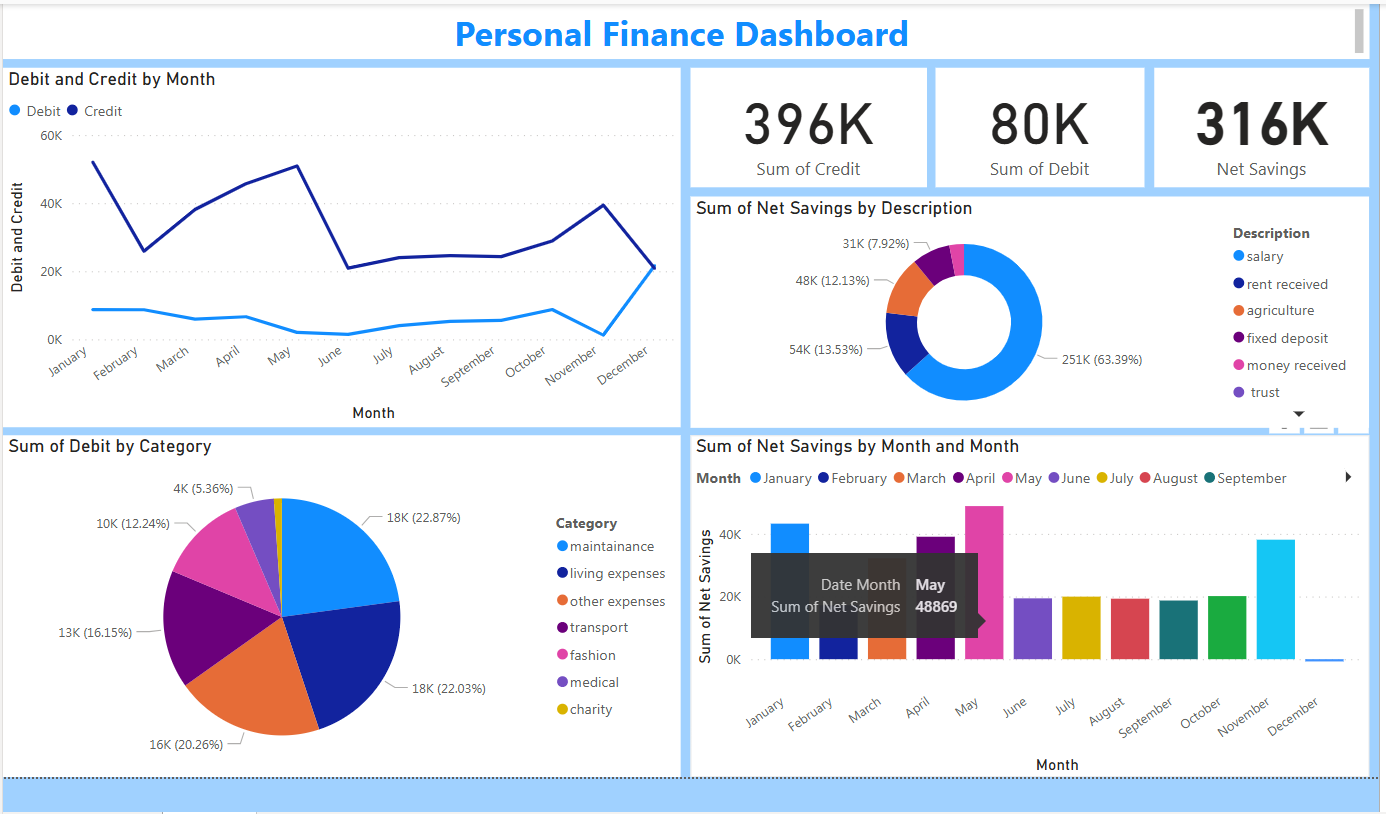

Layout of this report page (visuals, bound fields, positions):
{"tool":"powerbi","page":{"name":"Page 1","canvas":[1280,720],"ordinal":0},"visuals":[{"type":"card","fields":{"Values":["Sum(Sheet1.Amount)"]},"box":[1071,59.6,199.9,111.1],"z":0},{"type":"lineChart","fields":{"Category":["Sheet1.Date.Variation.Date Hierarchy.Month"],"Y":["Sum(Sheet1.Debit)","Sum(Sheet1.Credit)"]},"box":[0,59.6,630.2,334.4],"z":1000},{"type":"pieChart","title":"Sum of Debit by Category","fields":{"Category":["Sheet1.Category"],"Y":["Sum(Sheet1.Debit)"]},"box":[0,401,630.2,319.2],"z":2000},{"type":"columnChart","fields":{"Y":["Sum(Sheet1.Amount)"],"Series":["Sheet1.Date.Variation.Date Hierarchy.Month"],"Category":["Sheet1.Date.Variation.Date Hierarchy.Month"]},"box":[639.5,401,631.3,319.2],"z":3000},{"type":"card","fields":{"Values":["Sum(Sheet1.Credit)"]},"box":[639.5,59.6,219.8,111.1],"z":4000},{"type":"card","fields":{"Values":["Sum(Sheet1.Debit)"]},"box":[867.5,59.6,194.1,111.1],"z":5000},{"type":"donutChart","title":"Sum of Net Savings by Description","fields":{"Category":["Sheet1.Description"],"Y":["Sum(Sheet1.Amount)"]},"box":[639.5,178.9,631.3,215.1],"z":6000},{"type":"textbox","box":[0,0,1270.9,51.4],"z":7000}]}

Visuals, with their boxes in screenshot pixels (x1, y1, x2, y2):
card - Sum(Sheet1.Amount): bbox=[1151, 67, 1364, 186]
lineChart - Sheet1.Date.Variation.Date Hierarchy.Month x Sum(Sheet1.Debit): bbox=[7, 67, 680, 424]
"Sum of Debit by Category" pieChart: bbox=[7, 432, 680, 773]
columnChart - Sum(Sheet1.Amount) x Sheet1.Date.Variation.Date Hierarchy.Month: bbox=[690, 432, 1364, 773]
card - Sum(Sheet1.Credit): bbox=[690, 67, 925, 186]
card - Sum(Sheet1.Debit): bbox=[934, 67, 1141, 186]
"Sum of Net Savings by Description" donutChart: bbox=[690, 195, 1364, 424]
textbox: bbox=[7, 4, 1364, 58]
